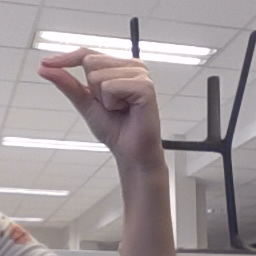S: (36, 45, 165, 152)
